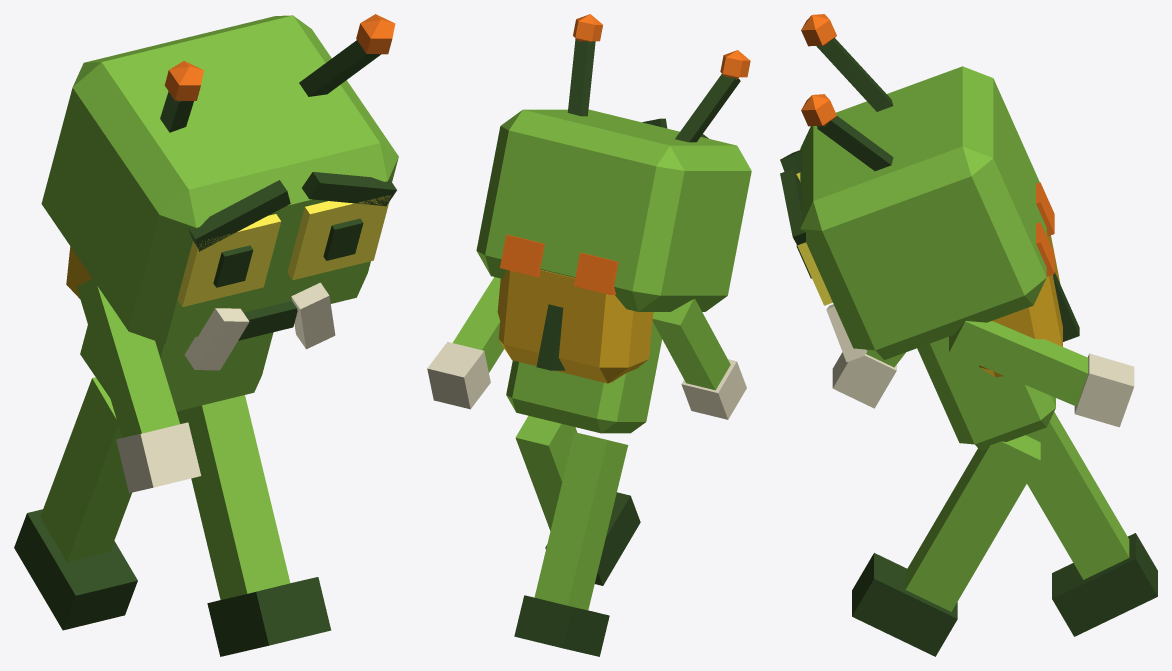
The model's file is scout_r10.glb.
3 renders of one model, left to right at view 1: azimuth 30°, elevation 25°; view 2: azimuth 150°, elevation 25°; view 3: azimuth 270°, elevation 25°, orthographic. The views are drawn at different scales.
Visible parts, largest first — view 1: scout_r10_mesh; view 2: scout_r10_mesh; view 3: scout_r10_mesh.
Part boxes in pixels (x1=…): scout_r10_mesh: x1=14, y1=14, x2=398, y2=656; scout_r10_mesh: x1=427, y1=14, x2=751, y2=656; scout_r10_mesh: x1=780, y1=14, x2=1157, y2=656.
Size of the model in its own units: 0.4403 by 1.2 by 0.7026.
1 material, 1 textured.
